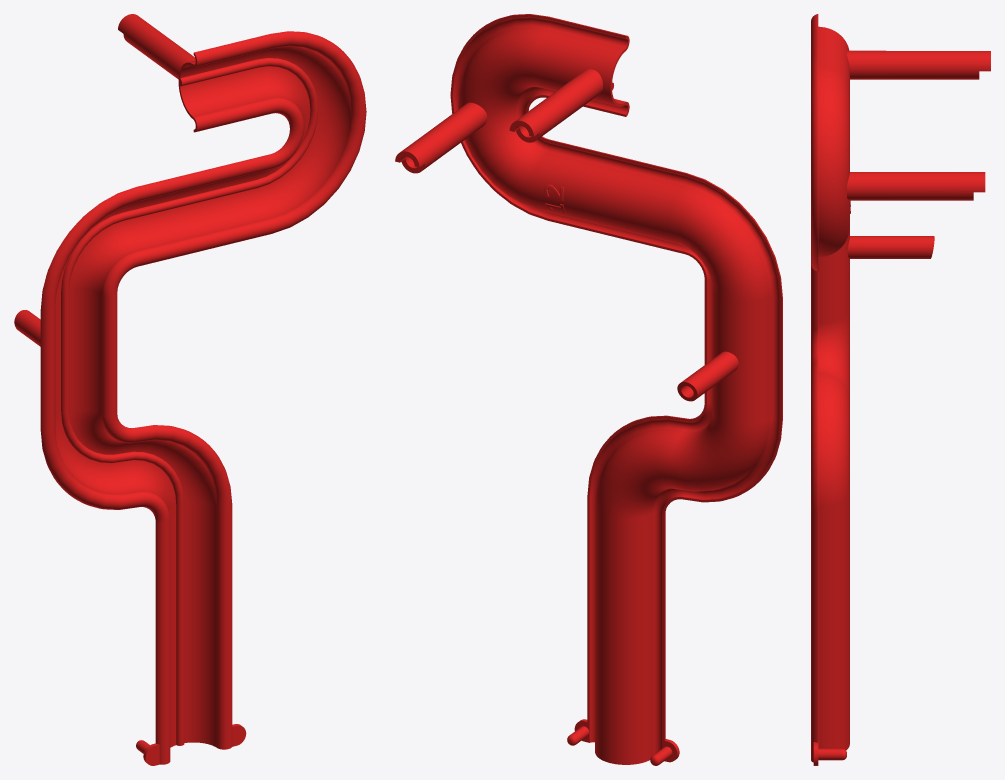
File: PART 12 CHUTE.fbx
3 views of the same model, side by side, from view 1: azimuth 30°, elevation 25°; view 2: azimuth 150°, elevation 25°; view 3: azimuth 270°, elevation 25° (orthographic). The views are drawn at different scales.
Visible parts, largest first — view 1: PART 12 CHUTE; view 2: PART 12 CHUTE; view 3: PART 12 CHUTE.
Boxes of the visible parts, x1,y1,x2,y2 form: PART 12 CHUTE: [14, 14, 366, 765]; PART 12 CHUTE: [395, 14, 782, 765]; PART 12 CHUTE: [811, 14, 990, 765].
Size of the model in its own units: 10.78 by 22.22 by 4.96.
